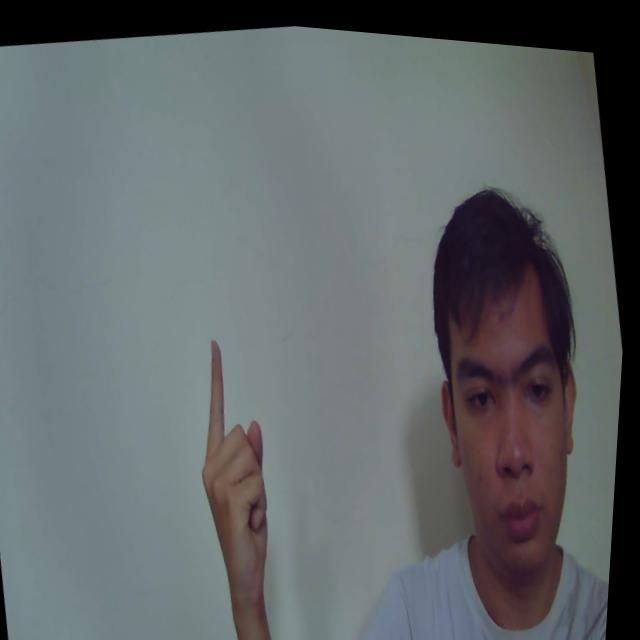D: (180, 327, 299, 601)
